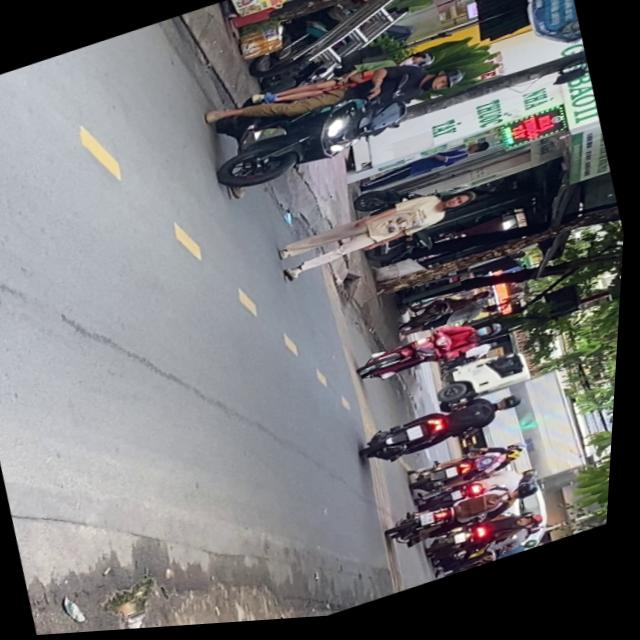helmet: (426, 68, 469, 99), (480, 325, 509, 345)
licenseplate: (198, 30, 484, 204), (357, 311, 513, 394)
